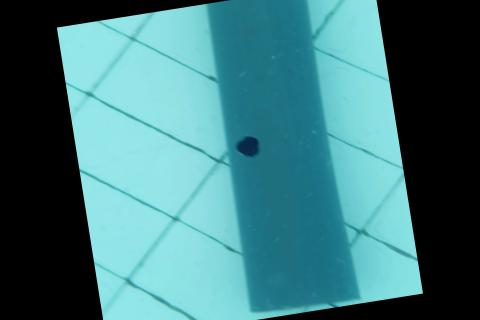kebocoran: (232, 131, 263, 159)
